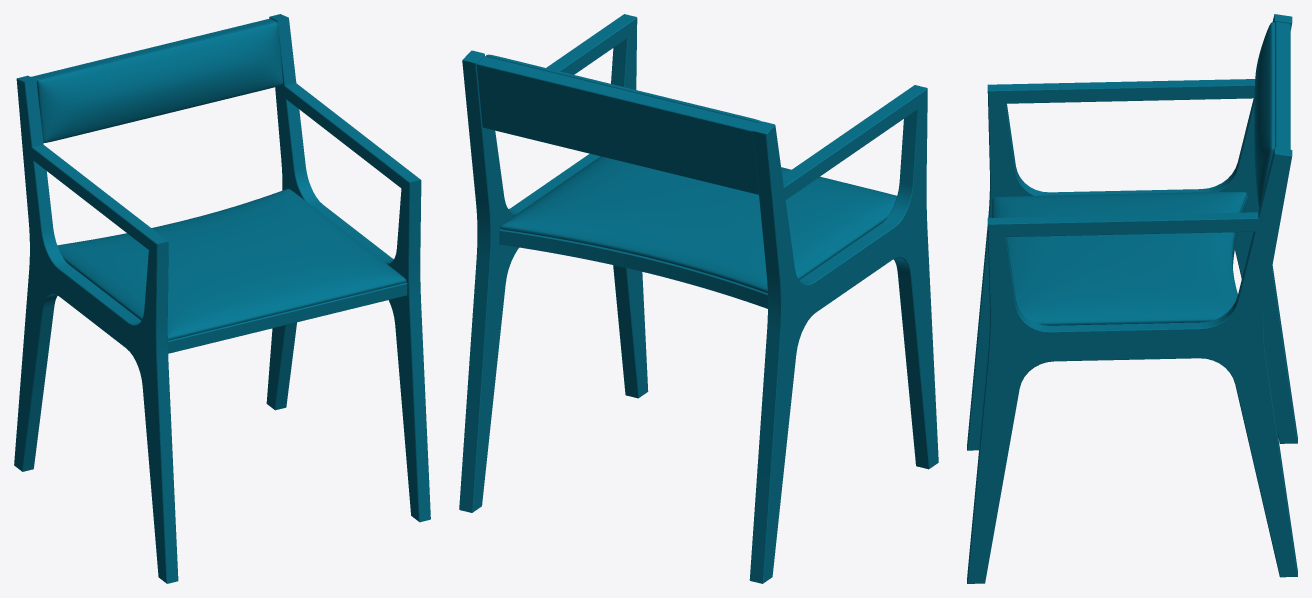
Rendered from Project Name.gltf.
The picture shows the model from 3 angles, left to right: view 1: azimuth 30°, elevation 25°; view 2: azimuth 150°, elevation 25°; view 3: azimuth 270°, elevation 25°; orthographic projection. The views are drawn at different scales.
Parts seen in each view (by area): view 1: Buffer Object; view 2: Buffer Object; view 3: Buffer Object.
Part boxes in pixels (<box>): Buffer Object: <box>14,14,430,583</box>; Buffer Object: <box>459,14,938,583</box>; Buffer Object: <box>967,14,1297,583</box>.
Size of the model in its own units: 0.056 by 0.0805 by 0.0561.
